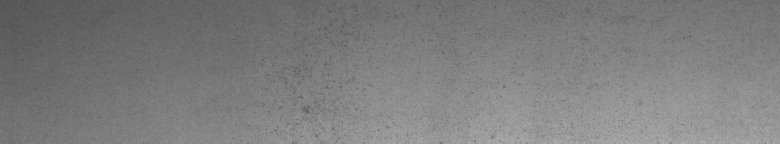ib: (294, 30, 354, 128)
